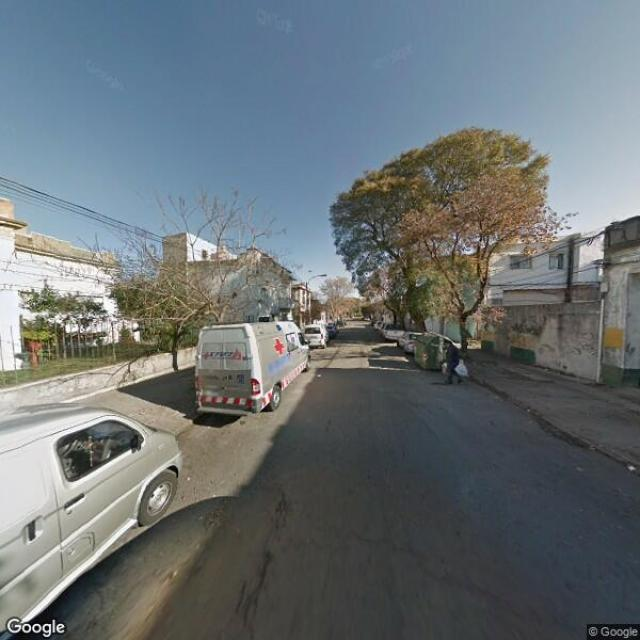garbage container: (409, 329, 464, 386)
